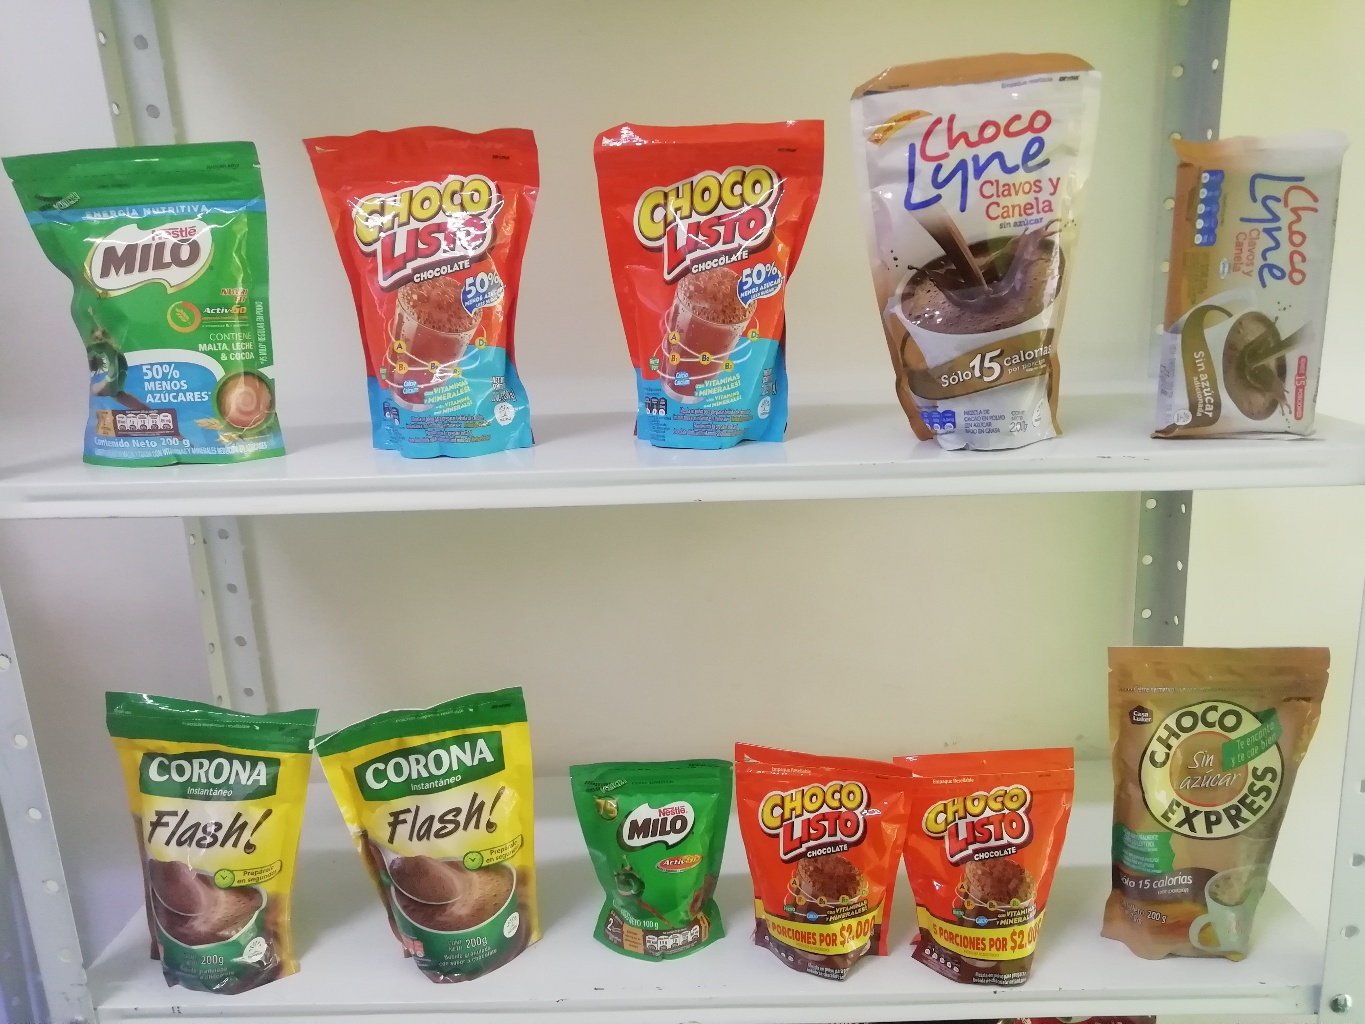COL0170104DYP20000: (299, 122, 544, 461)
COL0170203DYP10000: (571, 757, 736, 964)
COL0170205DYP20000: (0, 147, 292, 469)
